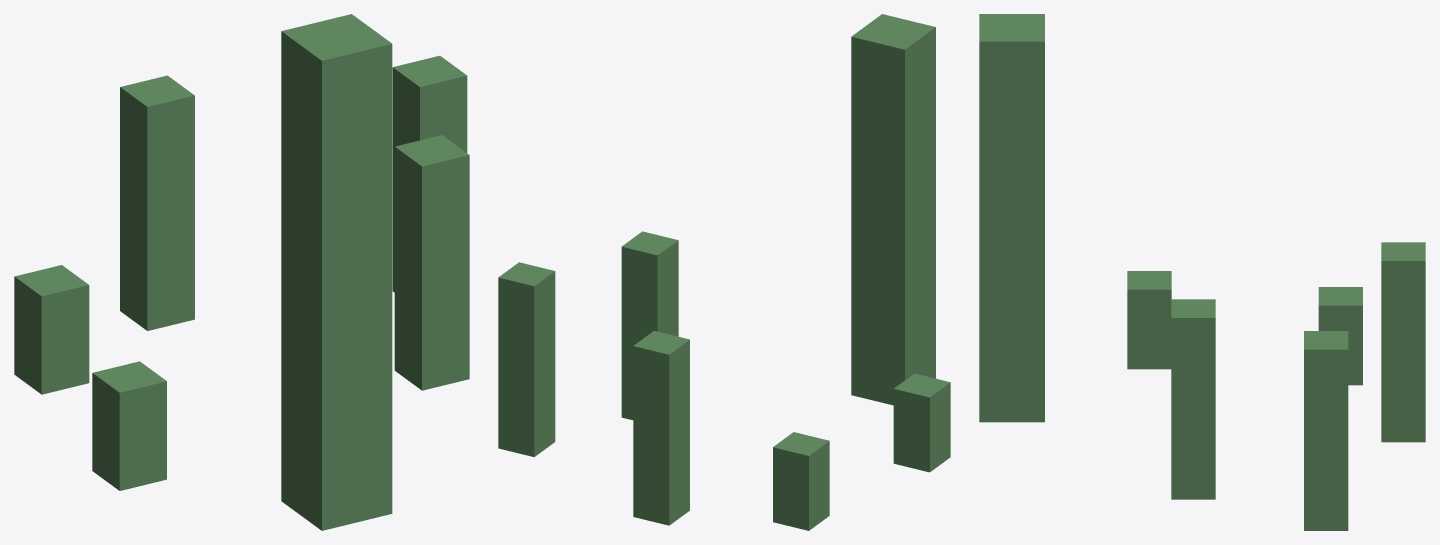
Rendered from PlantA_001.fbx.
The picture shows the model from 3 angles, left to right: view 1: azimuth 30°, elevation 25°; view 2: azimuth 150°, elevation 25°; view 3: azimuth 270°, elevation 25°; orthographic projection. The views are drawn at different scales.
Visible parts, largest first — view 1: PLantA_001; view 2: PLantA_001; view 3: PLantA_001.
Boxes of the visible parts, x1,y1,x2,y2 form: PLantA_001: (14,14,469,530); PLantA_001: (498,14,950,530); PLantA_001: (979,14,1425,530).
Bounding box in the file's own units: 0.2581 × 0.2538 × 0.2698.
